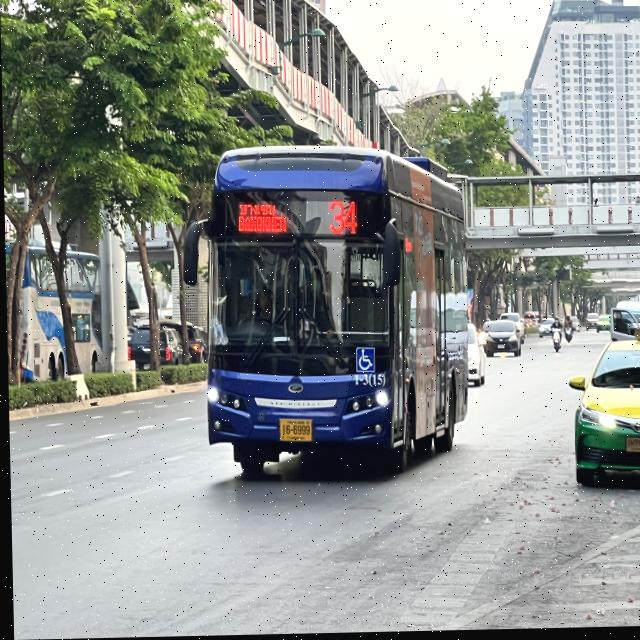Bus-Line-Number: (327, 201, 358, 238)
Destination-Sign-Normal: (235, 201, 288, 238)
TSB-Bus: (176, 134, 475, 486)
